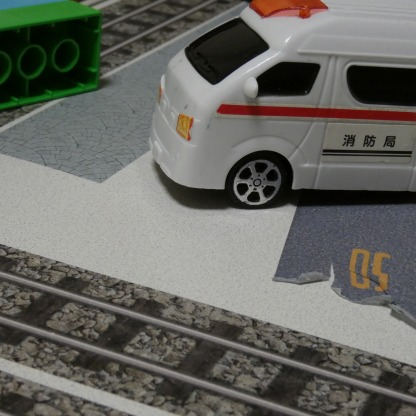car: (151, 0, 416, 207)
